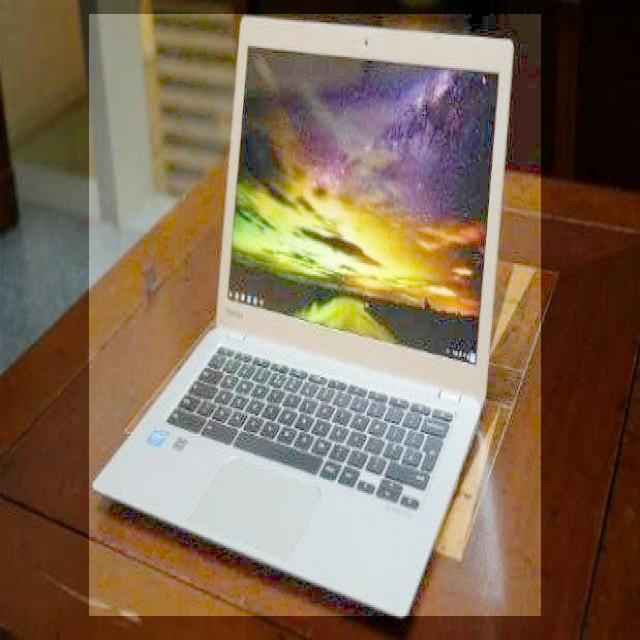-keyboard-: (89, 14, 541, 616)
